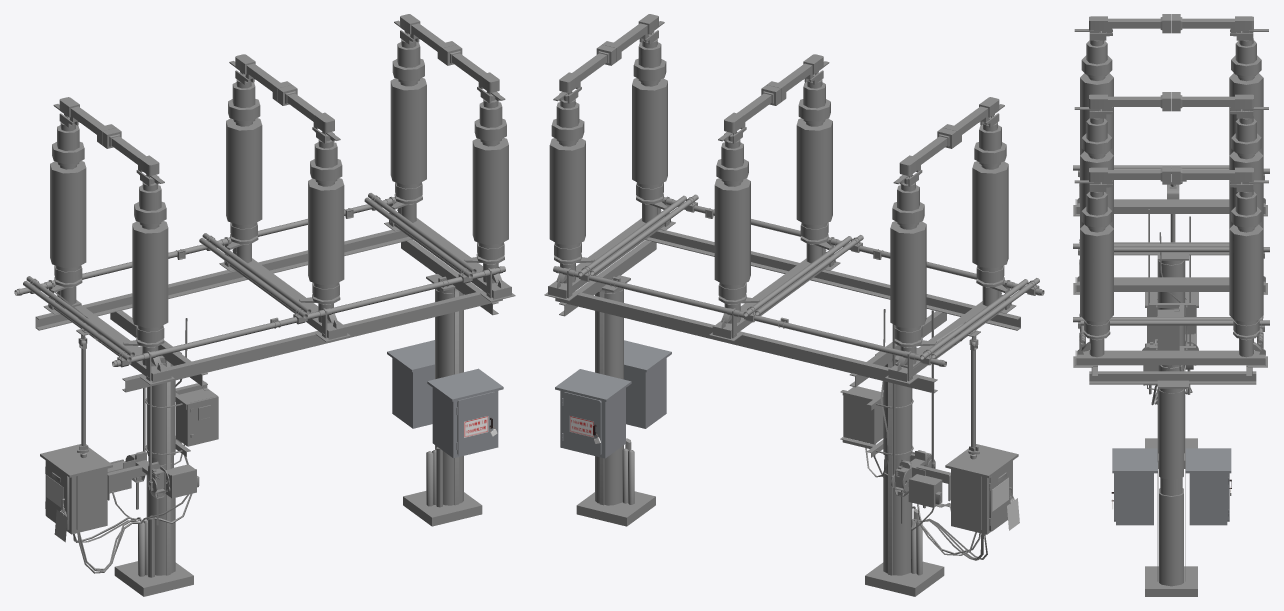
The picture shows the model from 3 angles, left to right: view 1: azimuth 30°, elevation 25°; view 2: azimuth 150°, elevation 25°; view 3: azimuth 270°, elevation 25°; orthographic projection. The views are drawn at different scales.
Visible parts, largest first — view 1: xd-105xl-1056dz, xd-105xl-1056dz-jigouxiang, xd-105xl-1056dz-daozha_03, xd-105xl-1056dz-daozha_02, xd-105xl-1056dz-daozha_01, xd-105xl-1056dz_jigouxiangmen, xd-105xl-1056dz-daodianbi_01, xd-105xl-1056dz-daodianbi_05, xd-105xl-1056dz-daodianbi_03, xd-105xl-1056dz-daodianbi_06, xd-105xl-1056dz-daodianbi_04, xd-105xl-1056dz-daodianbi_02; view 2: xd-105xl-1056dz, xd-105xl-1056dz-jigouxiang, xd-105xl-1056dz-daozha_03, xd-105xl-1056dz-daozha_02, xd-105xl-1056dz-daozha_01, xd-105xl-1056dz-daodianbi_02, xd-105xl-1056dz-daodianbi_06, xd-105xl-1056dz-daodianbi_04, xd-105xl-1056dz-daodianbi_03, xd-105xl-1056dz-daodianbi_01, xd-105xl-1056dz-daodianbi_05; view 3: xd-105xl-1056dz, xd-105xl-1056dz-jigouxiang, xd-105xl-1056dz-daozha_01, xd-105xl-1056dz-daozha_02, xd-105xl-1056dz-daodianbi_03, xd-105xl-1056dz-daodianbi_04, xd-105xl-1056dz-daodianbi_06, xd-105xl-1056dz-daodianbi_05, xd-105xl-1056dz-daodianbi_02, xd-105xl-1056dz-daodianbi_01, xd-105xl-1056dz-daozha_03.
Boxes of the visible parts, bbox=[...] form: xd-105xl-1056dz: bbox=[35, 33, 515, 596]; xd-105xl-1056dz-jigouxiang: bbox=[387, 340, 503, 458]; xd-105xl-1056dz-daozha_03: bbox=[14, 196, 505, 381]; xd-105xl-1056dz-daozha_02: bbox=[23, 197, 472, 367]; xd-105xl-1056dz-daozha_01: bbox=[26, 193, 476, 357]; xd-105xl-1056dz_jigouxiangmen: bbox=[456, 391, 495, 456]; xd-105xl-1056dz-daodianbi_01: bbox=[442, 45, 505, 103]; xd-105xl-1056dz-daodianbi_05: bbox=[102, 128, 164, 186]; xd-105xl-1056dz-daodianbi_03: bbox=[278, 85, 340, 143]; xd-105xl-1056dz-daodianbi_06: bbox=[53, 97, 116, 144]; xd-105xl-1056dz-daodianbi_04: bbox=[229, 54, 291, 102]; xd-105xl-1056dz-daodianbi_02: bbox=[394, 14, 456, 61]; xd-105xl-1056dz: bbox=[544, 33, 1020, 596]; xd-105xl-1056dz-jigouxiang: bbox=[555, 340, 671, 458]; xd-105xl-1056dz-daozha_03: bbox=[553, 196, 1044, 381]; xd-105xl-1056dz-daozha_02: bbox=[590, 194, 1039, 358]; xd-105xl-1056dz-daozha_01: bbox=[578, 195, 1028, 365]; xd-105xl-1056dz-daodianbi_02: bbox=[553, 45, 616, 103]; xd-105xl-1056dz-daodianbi_06: bbox=[893, 128, 956, 186]; xd-105xl-1056dz-daodianbi_04: bbox=[718, 85, 780, 143]; xd-105xl-1056dz-daodianbi_03: bbox=[767, 54, 829, 102]; xd-105xl-1056dz-daodianbi_01: bbox=[602, 14, 664, 61]; xd-105xl-1056dz-daodianbi_05: bbox=[942, 97, 1004, 144]; xd-105xl-1056dz: bbox=[1073, 32, 1267, 596]; xd-105xl-1056dz-jigouxiang: bbox=[1112, 448, 1231, 525]; xd-105xl-1056dz-daozha_01: bbox=[1080, 168, 1269, 332]; xd-105xl-1056dz-daozha_02: bbox=[1073, 165, 1262, 328]; xd-105xl-1056dz-daodianbi_03: bbox=[1074, 92, 1171, 118]; xd-105xl-1056dz-daodianbi_04: bbox=[1171, 92, 1268, 118]; xd-105xl-1056dz-daodianbi_06: bbox=[1171, 14, 1268, 40]; xd-105xl-1056dz-daodianbi_05: bbox=[1074, 14, 1171, 40]; xd-105xl-1056dz-daodianbi_02: bbox=[1171, 165, 1268, 191]; xd-105xl-1056dz-daodianbi_01: bbox=[1074, 165, 1171, 191]; xd-105xl-1056dz-daozha_03: bbox=[1079, 183, 1263, 348].
Bounding box in the file's own units: 409 × 432 × 183.
